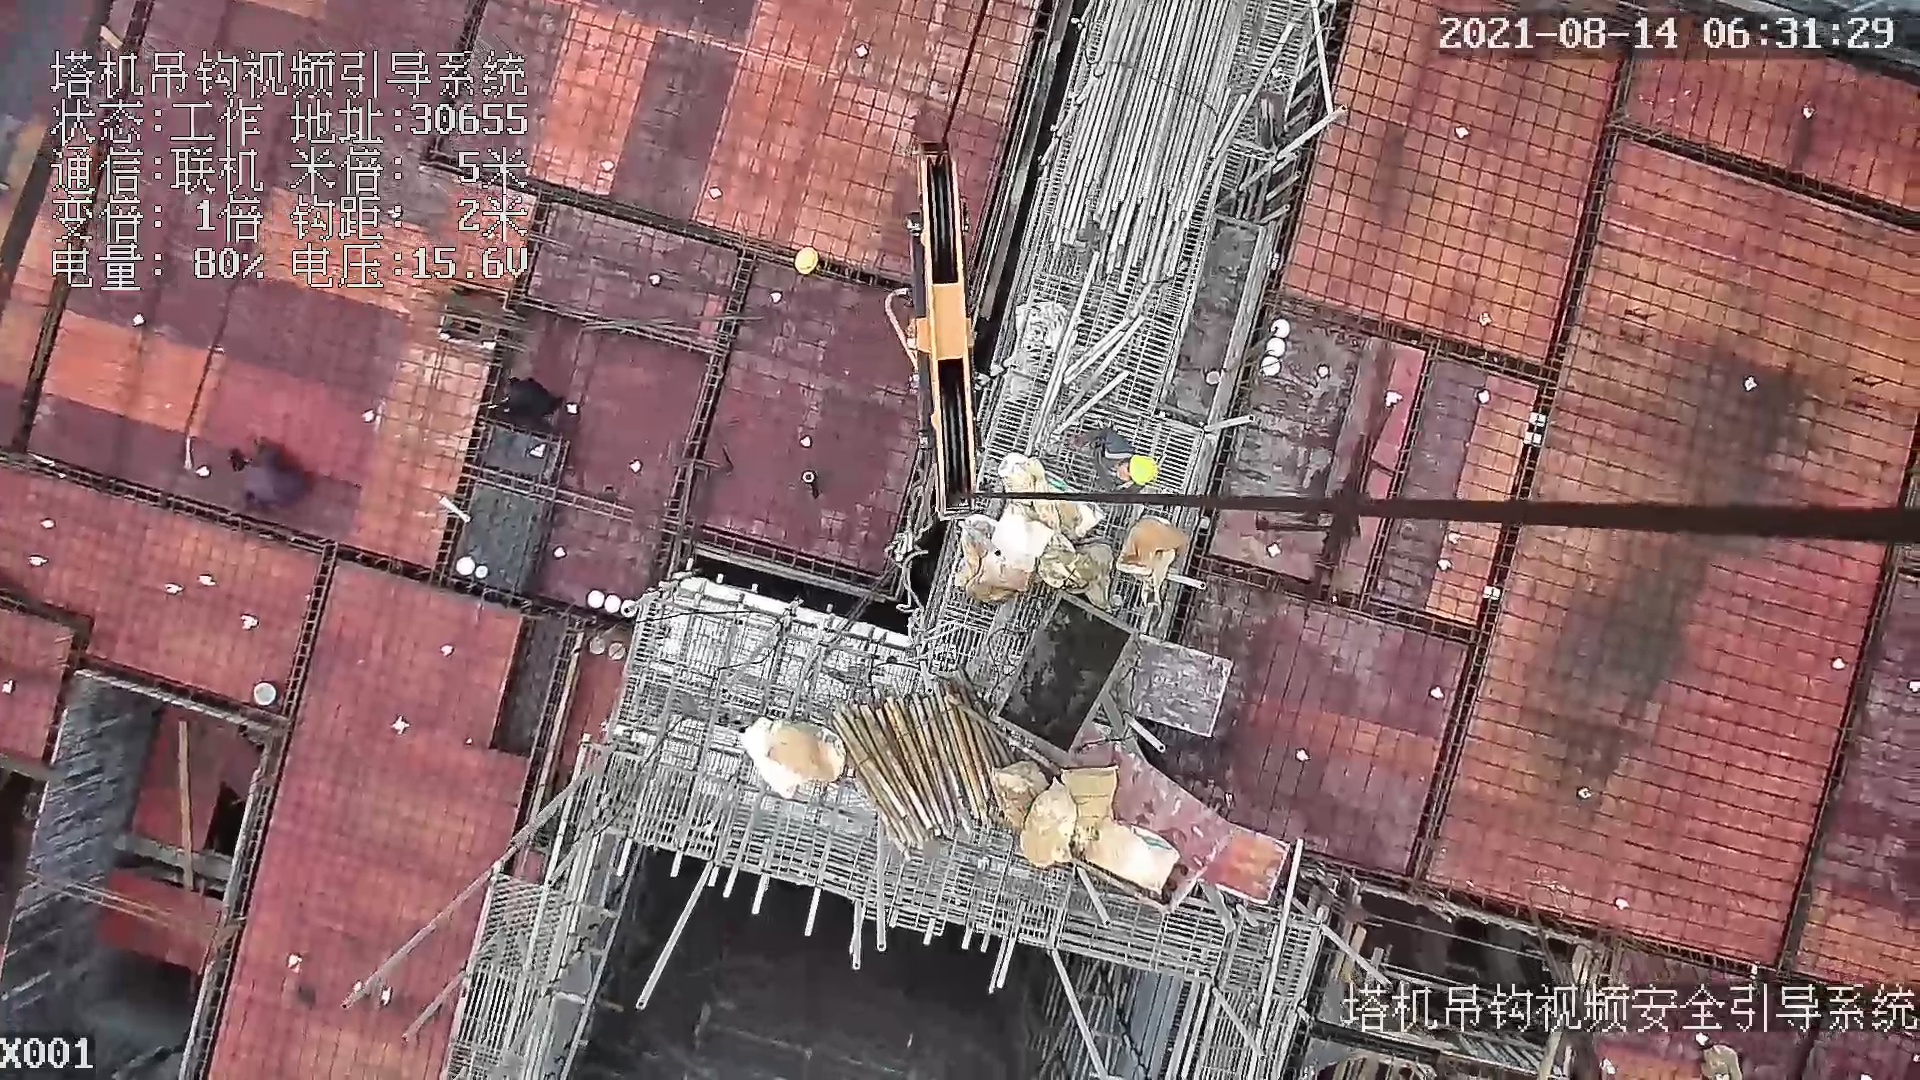helmet: (1127, 455, 1163, 488), (793, 248, 821, 277)
hook: (879, 140, 983, 521)
hopper: (996, 596, 1141, 755)
person: (1078, 419, 1172, 497), (221, 441, 321, 513), (482, 370, 572, 435)
scaffold: (831, 671, 1024, 855)
